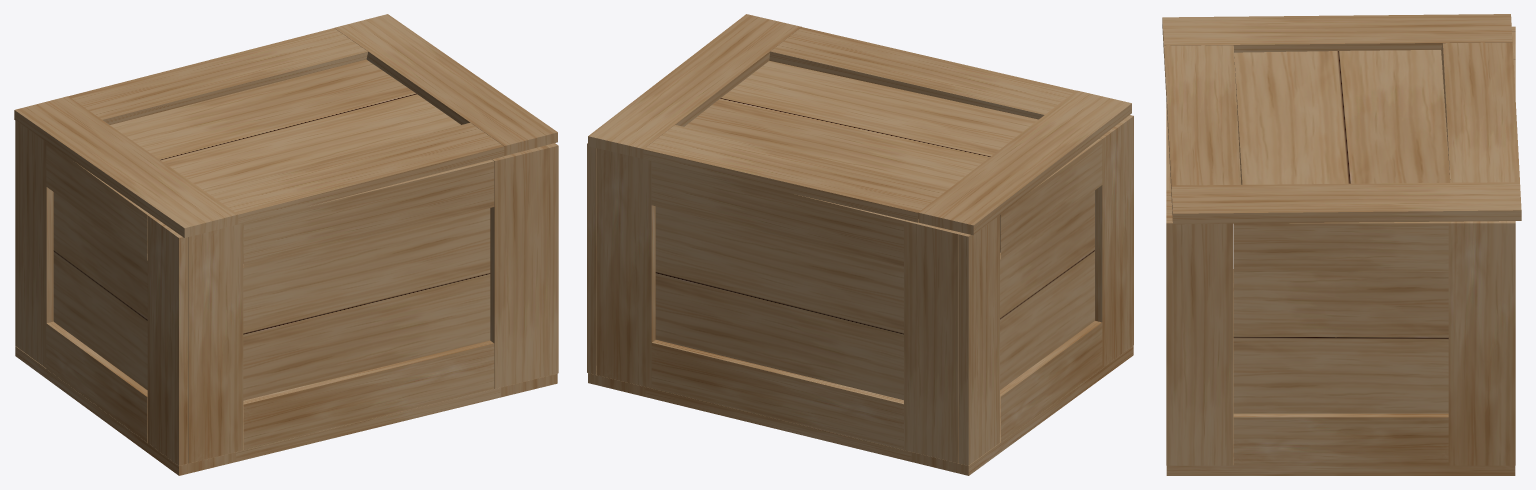
Rendered from md_woodenBox1.fbx.
3 renders of one model, left to right at view 1: azimuth 30°, elevation 25°; view 2: azimuth 150°, elevation 25°; view 3: azimuth 270°, elevation 25°, orthographic. The views are drawn at different scales.
Visible parts, largest first — view 1: _MT_0011, _MT_005, _MT_0014, _MT_0012, _MT_0010, _MT_006, _MT_004, _MT_0015, _MT_0013, _MT_0016, _MT_007; view 2: _MT_002, _MT_005, _MT_0014, _MT_001, _MT_003, _MT_006, _MT_004, _MT_0013, _MT_0015, _MT_0016, _MT_009; view 3: _MT_008, _MT_005, _MT_009, _MT_007, _MT_004, _MT_006, _MT_0016.
Part boxes in pixels (x1,y1,x2,y2): _MT_0011: [243, 159, 494, 450]; _MT_005: [68, 28, 504, 224]; _MT_0014: [46, 142, 149, 442]; _MT_0012: [490, 145, 548, 388]; _MT_0010: [188, 223, 243, 463]; _MT_006: [14, 96, 238, 237]; _MT_004: [334, 14, 557, 155]; _MT_0015: [147, 214, 188, 465]; _MT_0013: [15, 121, 53, 367]; _MT_0016: [15, 346, 557, 475]; _MT_007: [546, 143, 558, 375]; _MT_002: [651, 161, 904, 449]; _MT_005: [643, 27, 1075, 222]; _MT_0014: [1000, 138, 1102, 442]; _MT_001: [597, 148, 655, 388]; _MT_003: [904, 219, 960, 463]; _MT_006: [918, 90, 1131, 235]; _MT_004: [588, 14, 801, 158]; _MT_0013: [959, 215, 999, 465]; _MT_0015: [1095, 115, 1133, 367]; _MT_0016: [588, 345, 1133, 475]; _MT_009: [587, 143, 596, 374]; _MT_008: [1233, 221, 1448, 465]; _MT_005: [1164, 42, 1519, 188]; _MT_009: [1448, 221, 1515, 465]; _MT_007: [1166, 218, 1233, 465]; _MT_004: [1171, 182, 1521, 224]; _MT_006: [1162, 14, 1512, 53]; _MT_0016: [1166, 269, 1515, 475].
Size of the model in its own units: 81.33 by 50.14 by 61.79.
